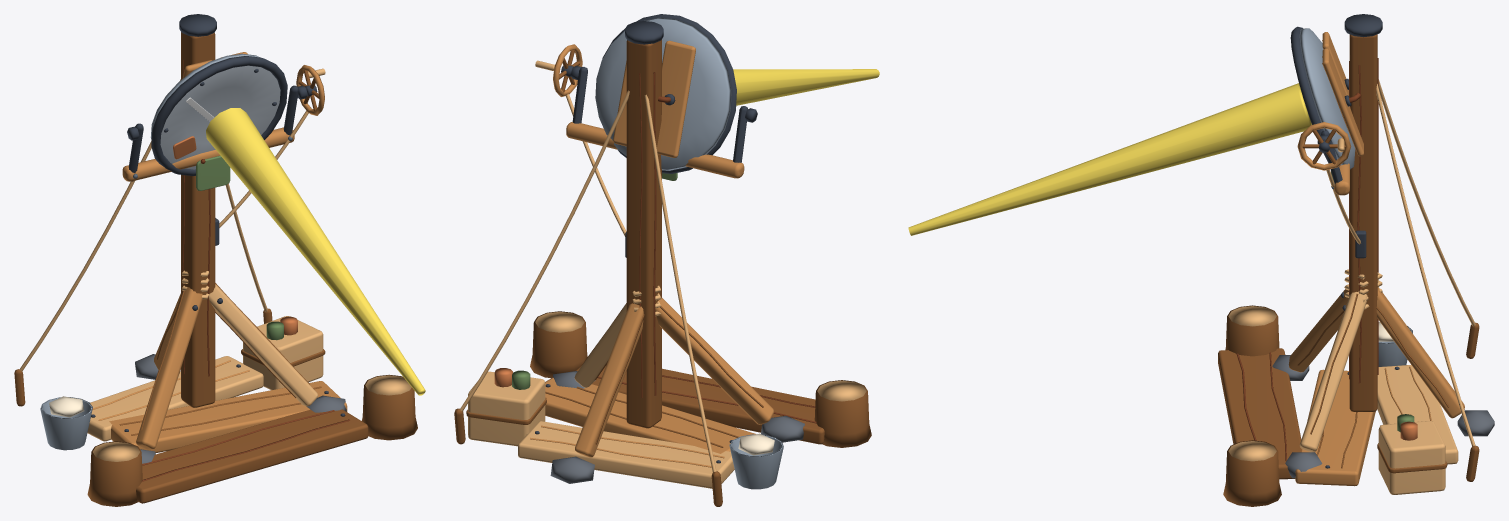
File: SunMirrorTower_T1.fbx
3 views of the same model, side by side, from view 1: azimuth 30°, elevation 25°; view 2: azimuth 150°, elevation 25°; view 3: azimuth 270°, elevation 25° (orthographic). The views are drawn at different scales.
Parts seen in each view (by area): view 1: SunMirrorTowerT1Planks, SunMirrorTowerT1Pole, SunMirrorTowerT1Junk, SunMirrorTowerT1BeamGlow, SunMirrorTowerT1Shield, SunMirrorTowerT1Yoke, SunMirrorTowerT1Ropes, SunMirrorTowerT1Crank; view 2: SunMirrorTowerT1Pole, SunMirrorTowerT1Planks, SunMirrorTowerT1Junk, SunMirrorTowerT1Shield, SunMirrorTowerT1Ropes, SunMirrorTowerT1BeamGlow, SunMirrorTowerT1Yoke, SunMirrorTowerT1Crank; view 3: SunMirrorTowerT1Pole, SunMirrorTowerT1Planks, SunMirrorTowerT1BeamGlow, SunMirrorTowerT1Junk, SunMirrorTowerT1Shield, SunMirrorTowerT1Ropes, SunMirrorTowerT1Crank, SunMirrorTowerT1Yoke.
Part boxes in pixels (box(x1,y1,x2,y2)): SunMirrorTowerT1Planks: box(87, 354, 368, 503); SunMirrorTowerT1Pole: box(14, 14, 318, 449); SunMirrorTowerT1Junk: box(40, 316, 417, 506); SunMirrorTowerT1BeamGlow: box(206, 108, 425, 395); SunMirrorTowerT1Shield: box(150, 52, 287, 176); SunMirrorTowerT1Yoke: box(122, 85, 307, 190); SunMirrorTowerT1Ropes: box(19, 79, 308, 371); SunMirrorTowerT1Crank: box(215, 65, 325, 245); SunMirrorTowerT1Pole: box(454, 21, 774, 506); SunMirrorTowerT1Planks: box(518, 364, 824, 488); SunMirrorTowerT1Junk: box(466, 311, 871, 489); SunMirrorTowerT1Shield: box(595, 14, 736, 173); SunMirrorTowerT1Ropes: box(459, 90, 716, 472); SunMirrorTowerT1BeamGlow: box(733, 69, 879, 105); SunMirrorTowerT1Yoke: box(566, 65, 757, 180); SunMirrorTowerT1Crank: box(535, 44, 626, 257); SunMirrorTowerT1Pole: box(1288, 14, 1479, 481); SunMirrorTowerT1Planks: box(1218, 348, 1494, 486); SunMirrorTowerT1BeamGlow: box(908, 83, 1311, 235); SunMirrorTowerT1Junk: box(1223, 305, 1447, 506); SunMirrorTowerT1Shield: box(1290, 26, 1363, 169); SunMirrorTowerT1Ropes: box(1326, 79, 1475, 446); SunMirrorTowerT1Crank: box(1297, 122, 1366, 258); SunMirrorTowerT1Yoke: box(1317, 130, 1349, 195).
Bounding box in the file's own units: 148 × 175 × 229.
